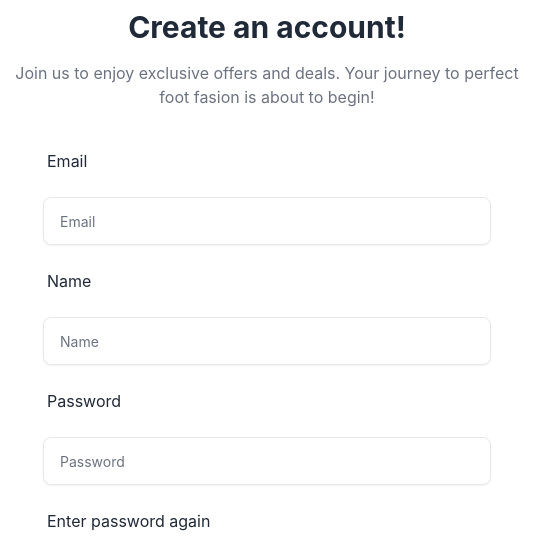
Signup › email field should show error message if › clicked and not a valid email string
Click the field labelled "Email" at (267, 221), box [43,197,491,245]
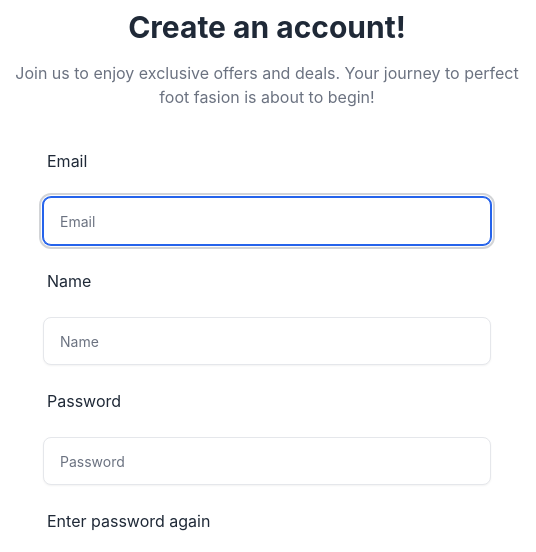
Type keys "howdy"
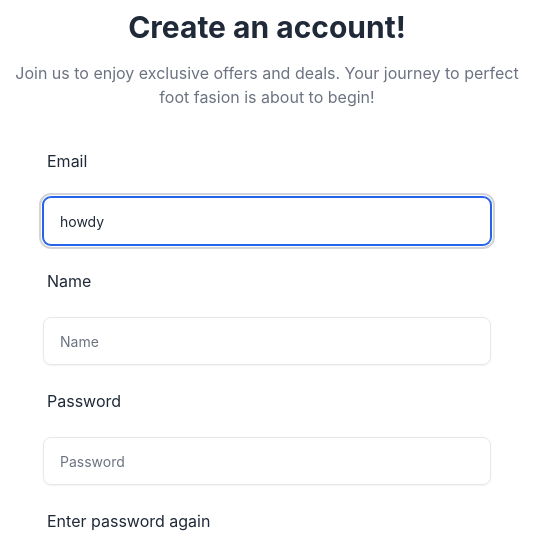
Click the password field labelled "Password" at (267, 461), box [43,437,491,485]
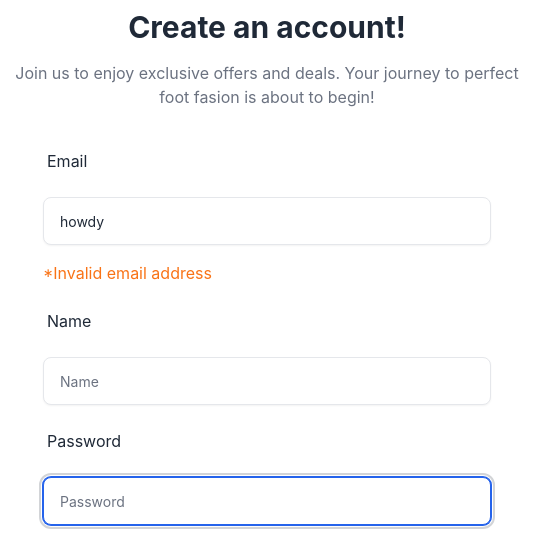
Now the text "*Invalid email address" is shown, box [43,263,212,283]
